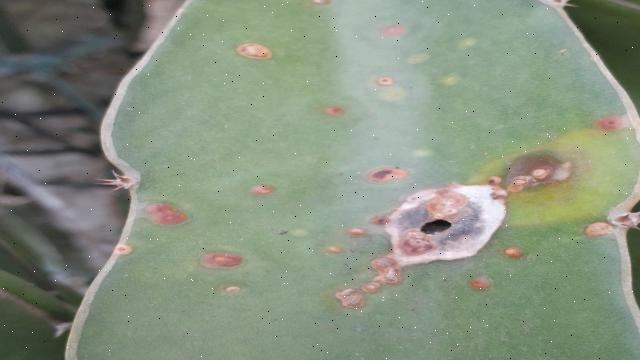stemcanker: (318, 70, 401, 129), (123, 198, 191, 234), (189, 249, 248, 275), (235, 39, 278, 64), (237, 177, 280, 200)
